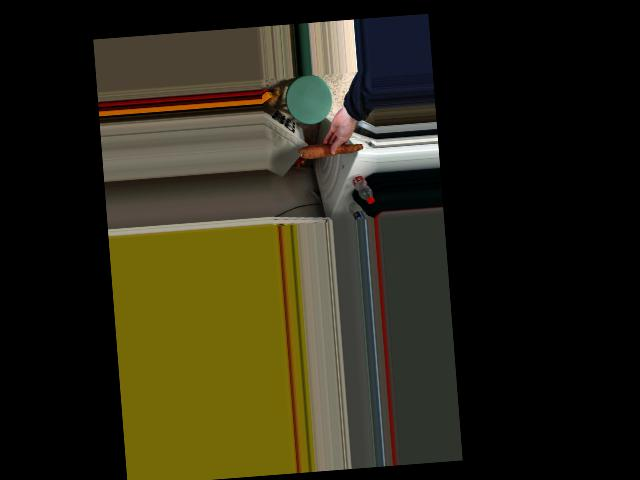sweet_potato: (299, 135, 364, 160)
